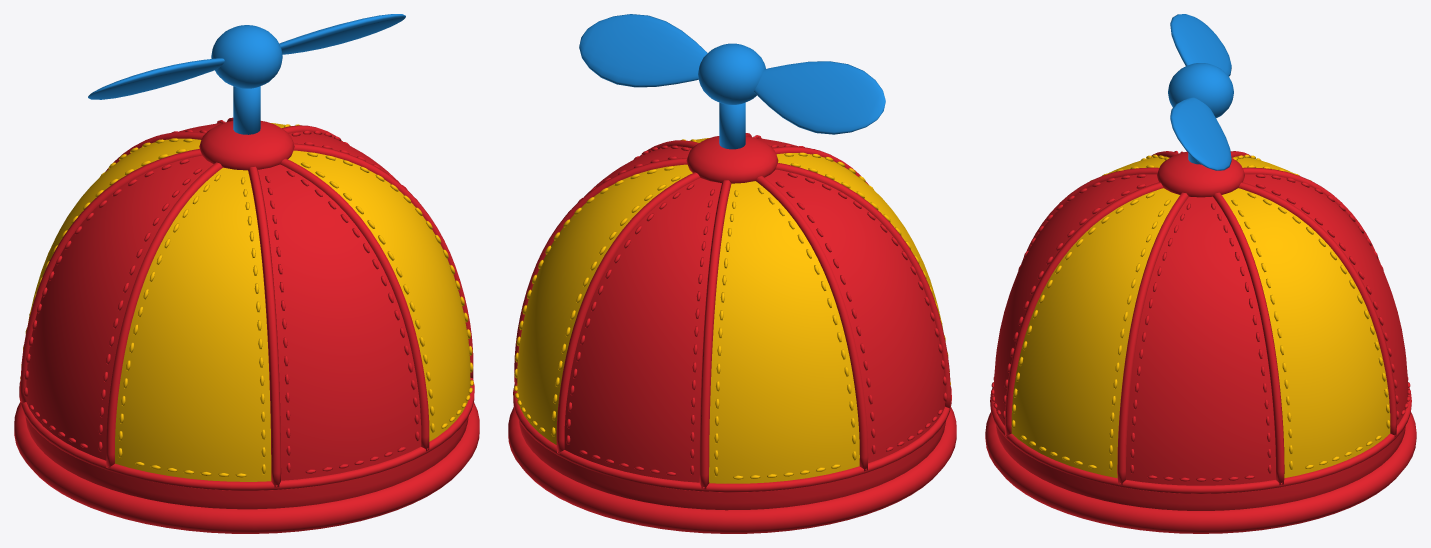
Rendered from propeller_beanie.glb.
3 renders of one model, left to right at view 1: azimuth 30°, elevation 25°; view 2: azimuth 150°, elevation 25°; view 3: azimuth 270°, elevation 25°, orthographic. The views are drawn at different scales.
Parts seen in each view (by area): view 1: PropellerCap, PropellerCap_Propeller; view 2: PropellerCap, PropellerCap_Propeller; view 3: PropellerCap, PropellerCap_Propeller.
Part boxes in pixels (x1,y1,x2,y2): PropellerCap: (14,86,479,533); PropellerCap_Propeller: (88,14,405,99); PropellerCap: (508,102,956,533); PropellerCap_Propeller: (579,14,885,134); PropellerCap: (985,151,1416,533); PropellerCap_Propeller: (1168,14,1233,170).
Bounding box in the file's own units: 0.3905 × 0.3805 × 0.3905.
